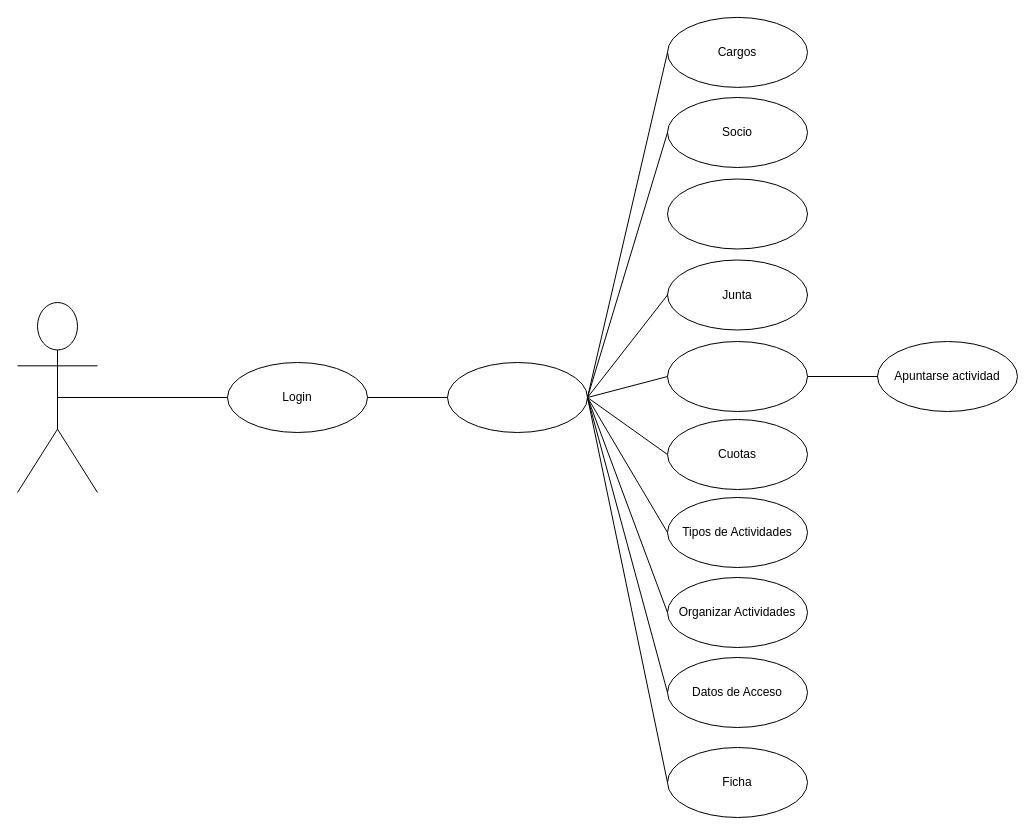
Image size: 1035x836. Some labels were removed from this diagram. The shapes that lost their labels are listed below. From the top down, each one's centre as x and y in pixels, then its label:
At [737,213]: "Organizar Actividad".
At [737,376]: "Actividades".
At [57,397]: "Administrador".
At [517,397]: "VentanaPrincipal".
